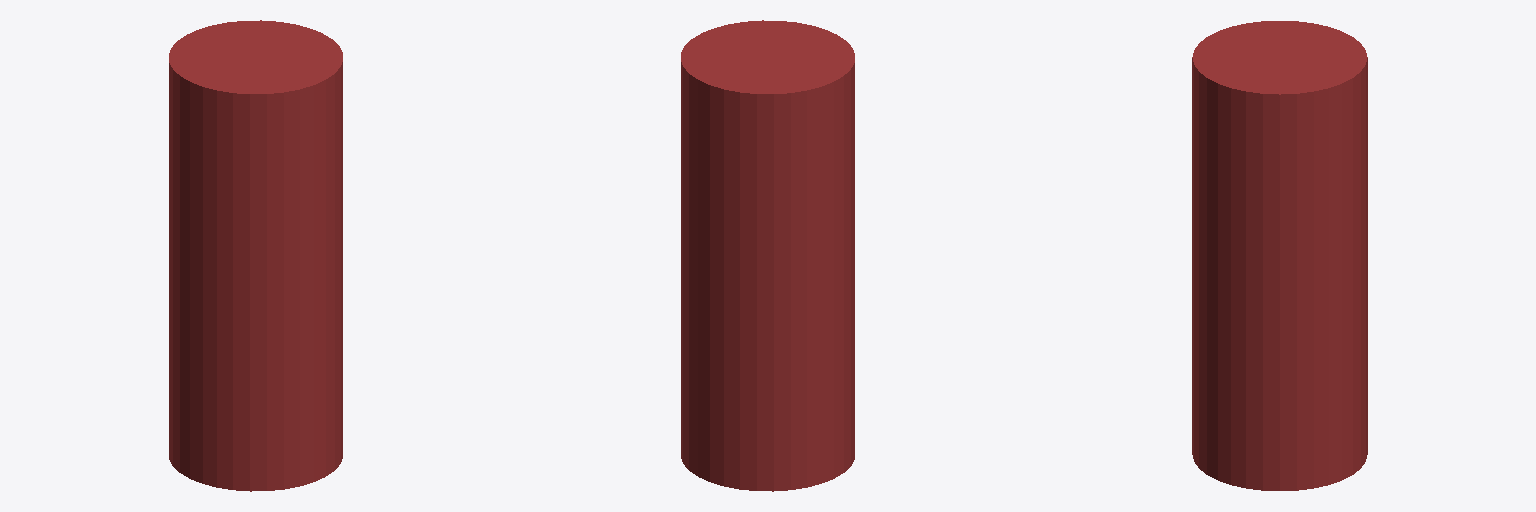
robot.urdf — obstacle2:
<robot name="obstacle2">
  <material name="dark_red"><color rgba="0.67 0.27 0.27 1.00"/></material>
  <link name="base_link">
    <inertial>
      <mass value="0.05" />
      <origin xyz="0.00 0.00 0.075" /> 
      <inertia  ixx="0.025" ixy="0"  ixz="0"  iyy="0.025"  iyz="0"  izz="0.025" />
    </inertial>
    <visual>
      <origin xyz="0.0 0.0 0.075" rpy="0.0 0.0 0.0" />
      <geometry>
        <cylinder radius="0.03" length="0.15"/>
      </geometry>
      <material name="dark_red"/>
    </visual>
    <collision>
      <origin xyz="0.0 0.0 0.075" rpy="0.0 0.0 0.0" />
      <geometry>
        <cylinder radius="0.03" length="0.15"/>
      </geometry>
    </collision>
  </link>
</robot>

--- What the picture shows (computed from the rendered views, not written in the file) ---
3 views of the same robot in one strip: view 1: azimuth 30°, elevation 25°; view 2: azimuth 150°, elevation 25°; view 3: azimuth 270°, elevation 25° (orthographic).
Model obstacle2 with 1 links and 0 joints (none), rooted at base_link, posed every joint at zero.
Links seen in each view (by area): view 1: base_link; view 2: base_link; view 3: base_link.
Boxes of the visible links, x1,y1,x2,y2 form: base_link: (169,20,342,491); base_link: (681,20,854,491); base_link: (1192,21,1367,490).
Bounding box of the posed robot: 0.06 × 0.06 × 0.15 m (x, y, z).
Geometry: primitives only (box / cylinder / sphere), no mesh files.